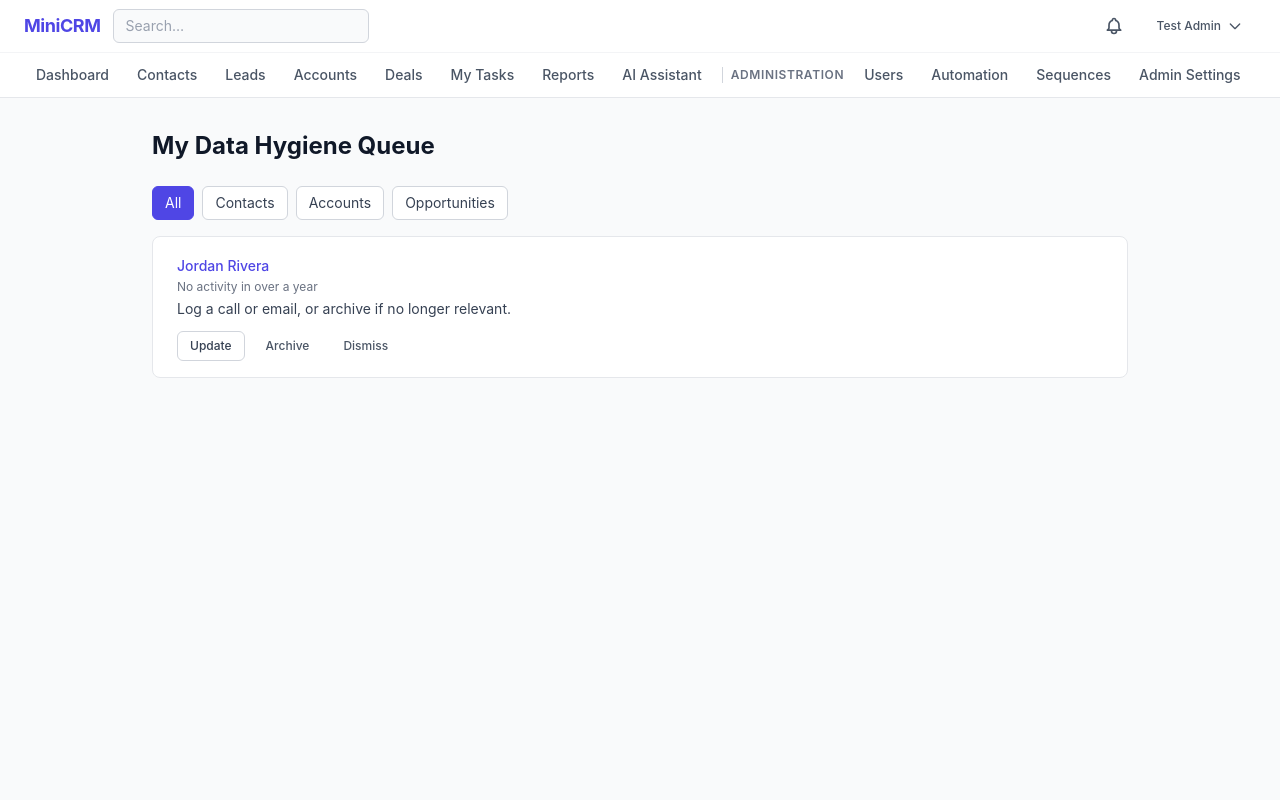
Scenario: DataHygienePage › dismisses a finding and removes it from the list on success
Click the button "Dismiss" at (366, 346), box [330,331,401,361]
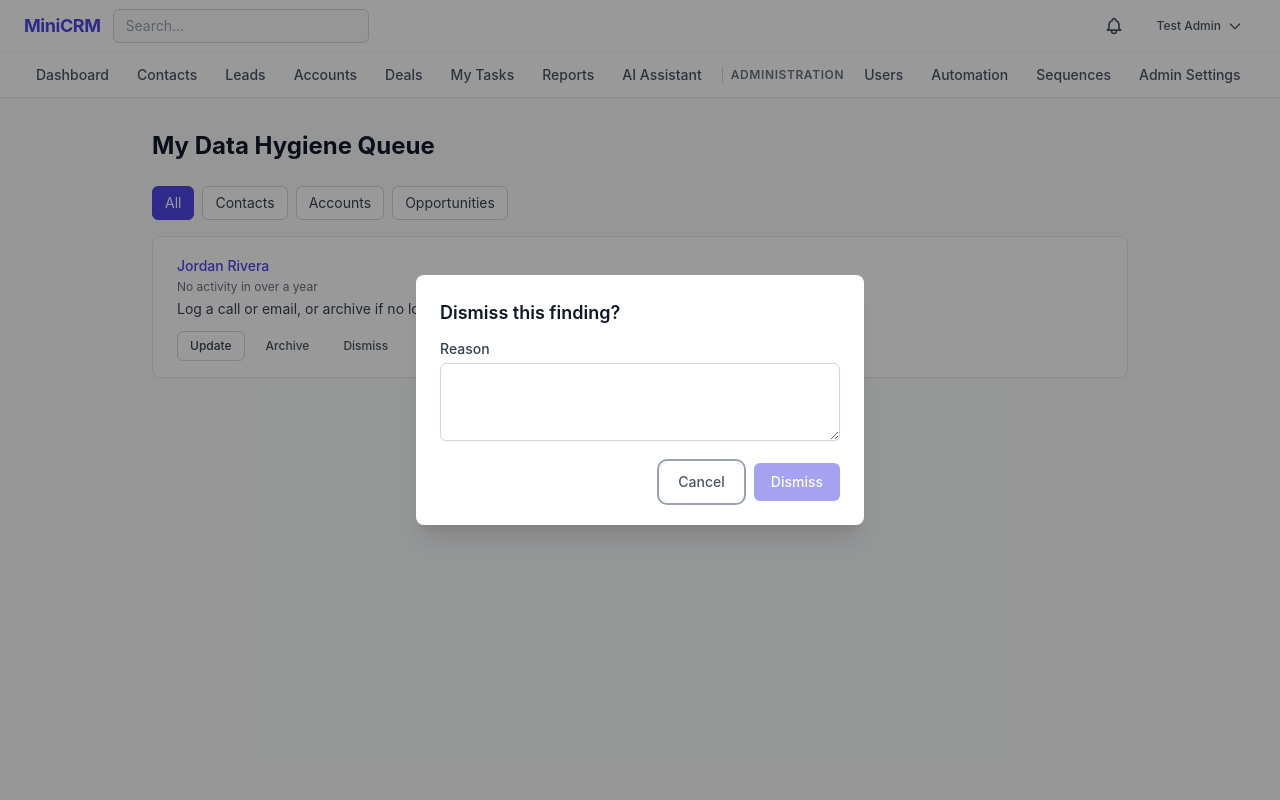
Expected: the dialog with test id "data-hygiene-dismiss-dialog" is shown
Type "Verified directly" into the text box with test id "data-hygiene-dismiss-reason-input" at (640, 402), box [440,363,840,441]
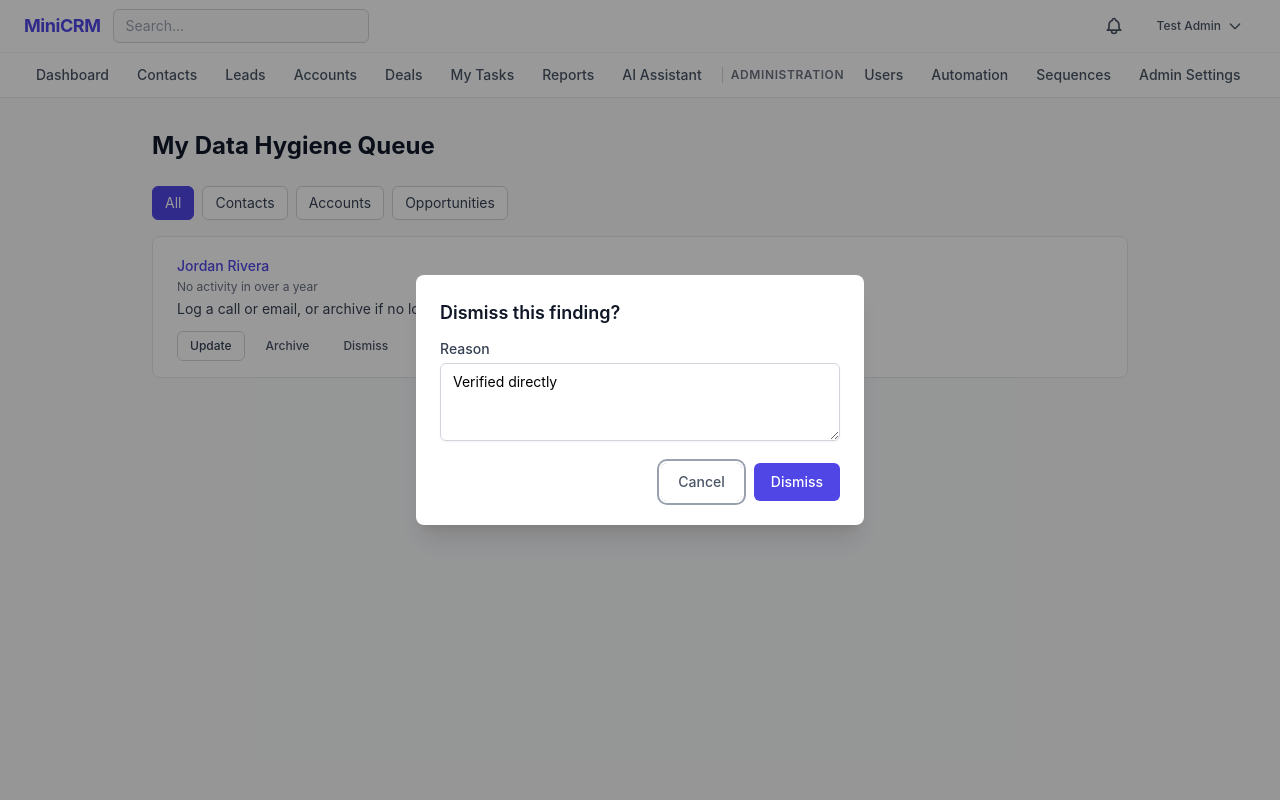
Click the button with test id "data-hygiene-dismiss-confirm" at (797, 482), box [754,463,840,501]
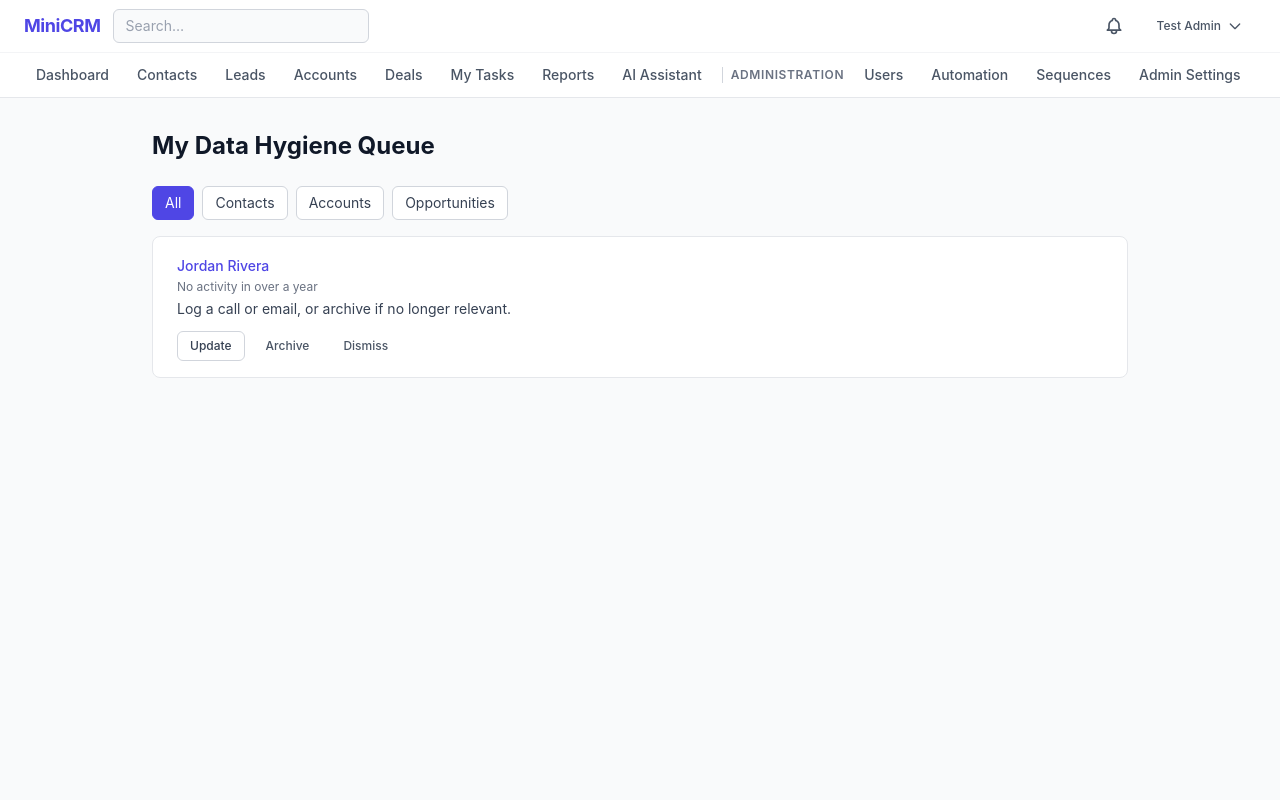
Expected: the dialog with test id "data-hygiene-dismiss-dialog" is gone
